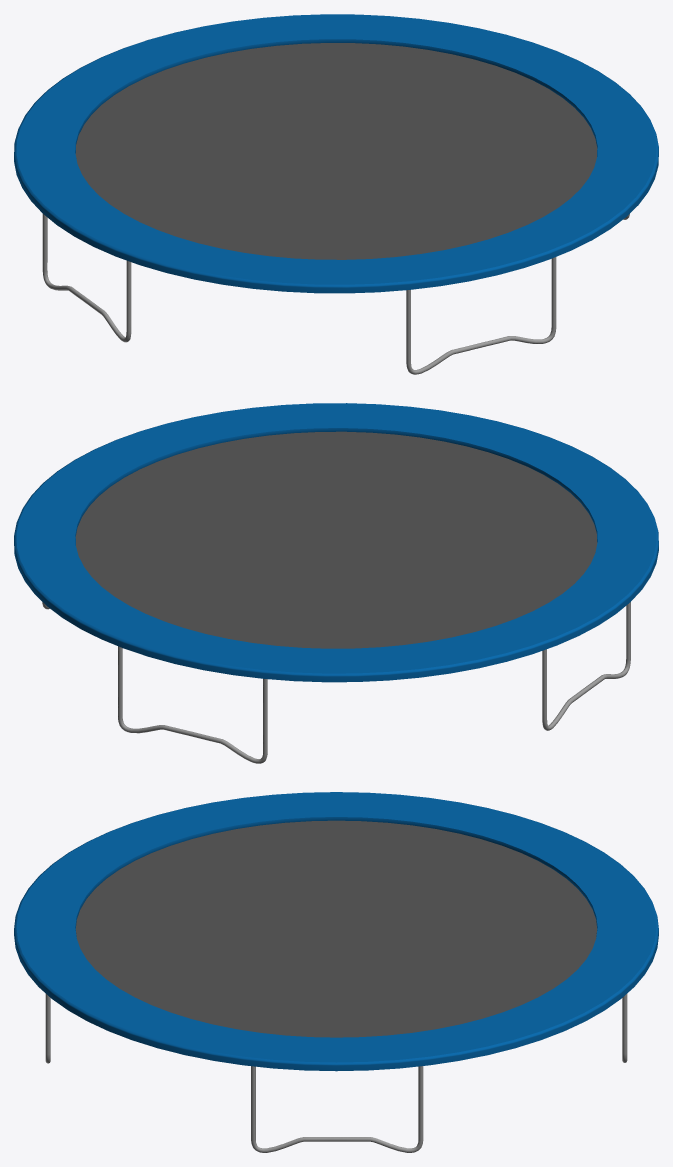
File: trampolim.fbx
The picture shows the model from 3 angles, top to bottom: view 1: azimuth 30°, elevation 25°; view 2: azimuth 150°, elevation 25°; view 3: azimuth 270°, elevation 25°; orthographic projection.
Parts seen in each view (by area): view 1: Mesh; view 2: Mesh; view 3: Mesh.
Part boxes in pixels (box(x1,y1,x2,y2)): Mesh: box(14, 14, 658, 374); Mesh: box(14, 403, 658, 763); Mesh: box(14, 792, 658, 1152).
Bounding box in the file's own units: 300 × 53.23 × 300.
